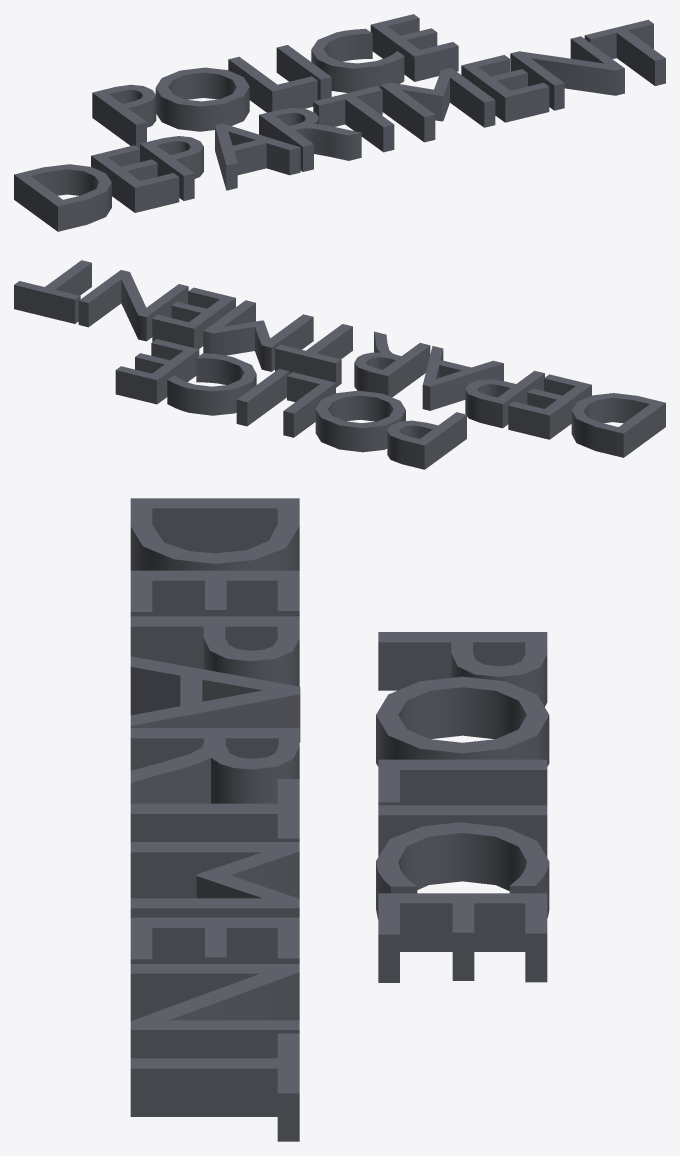
File: Police Department.fbx
3 views of the same model, one above another, from view 1: azimuth 30°, elevation 25°; view 2: azimuth 150°, elevation 25°; view 3: azimuth 270°, elevation 25° (orthographic). The views are drawn at different scales.
Visible parts, largest first — view 1: Police Department; view 2: Police Department; view 3: Police Department.
Boxes of the visible parts, x1,y1,x2,y2 form: Police Department: (14,14,665,231); Police Department: (14,260,665,469); Police Department: (130,498,549,1141).
Size of the model in its own units: 197 by 7.49 by 58.6.
